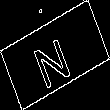N_NW: (32, 23, 78, 87)
